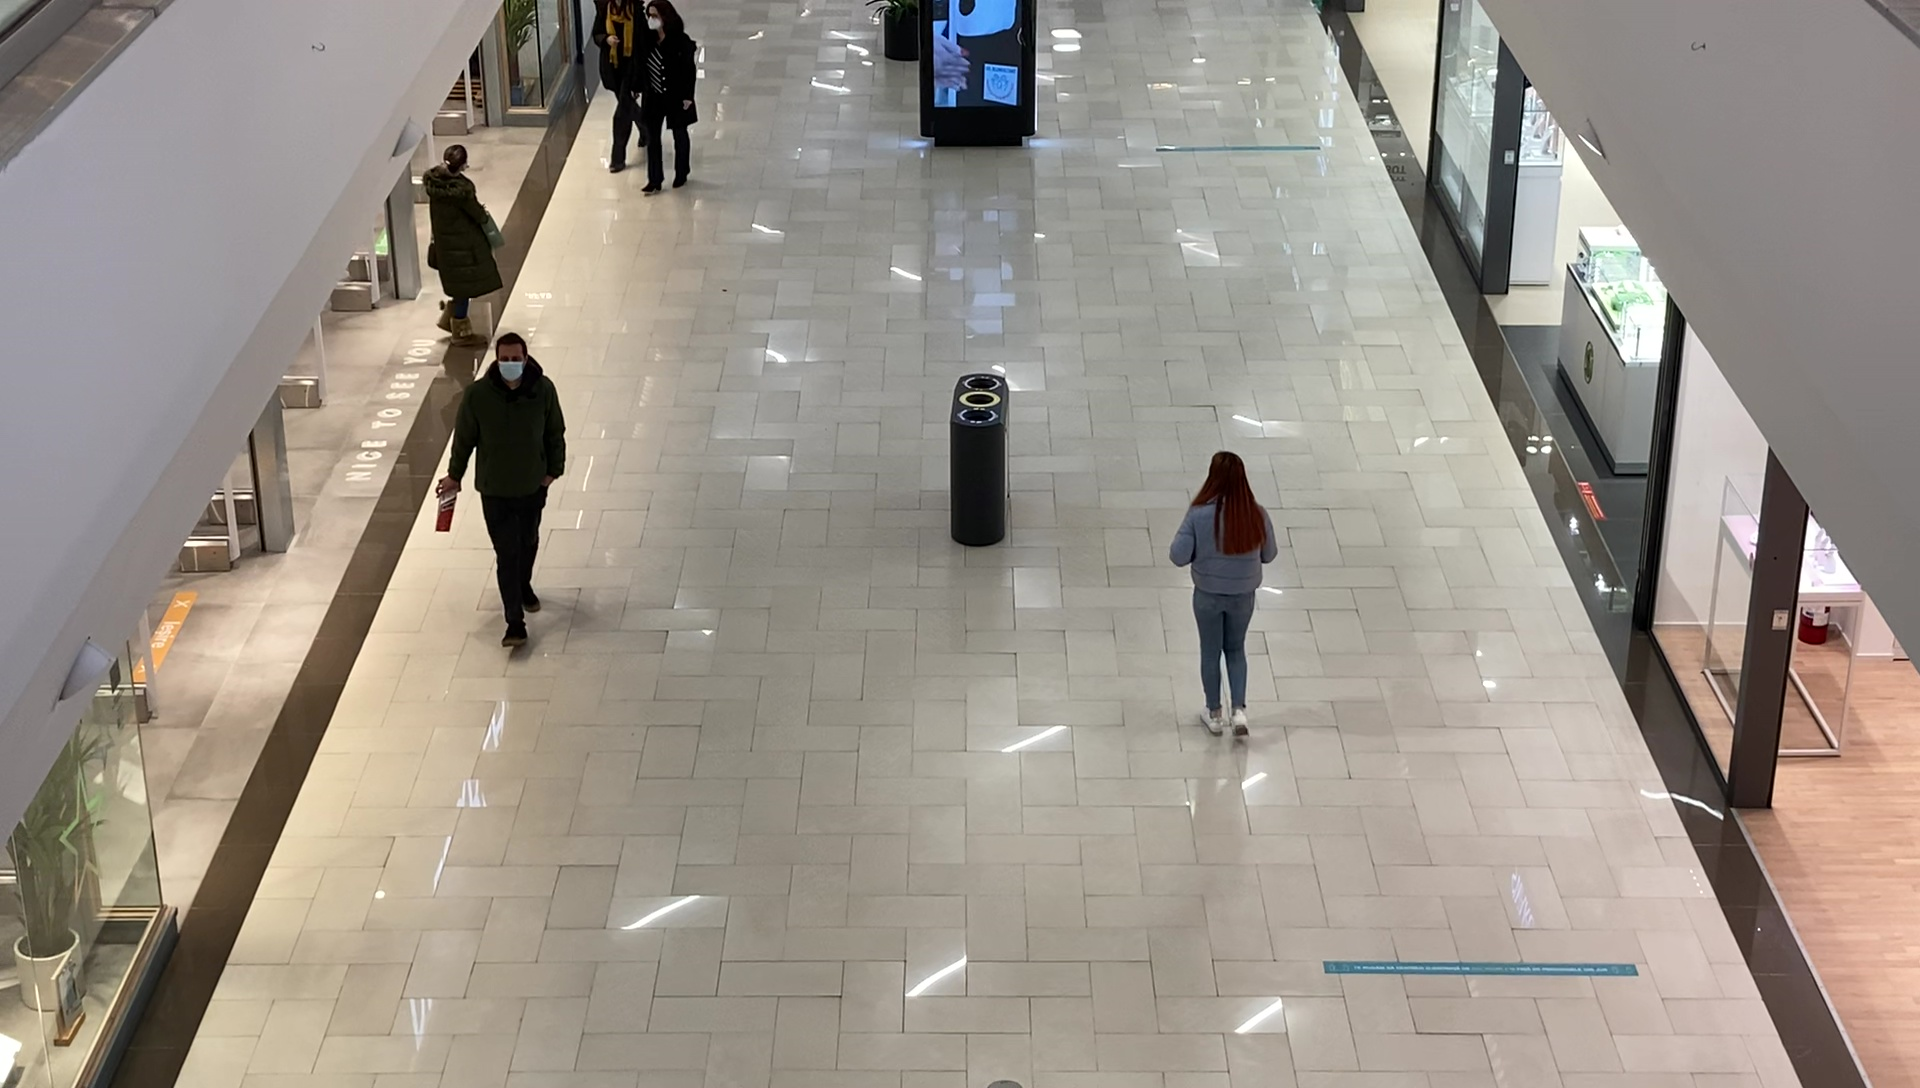person: (434, 334, 569, 650), (1168, 451, 1279, 743), (423, 145, 503, 342), (639, 1, 702, 195), (591, 1, 652, 176)
